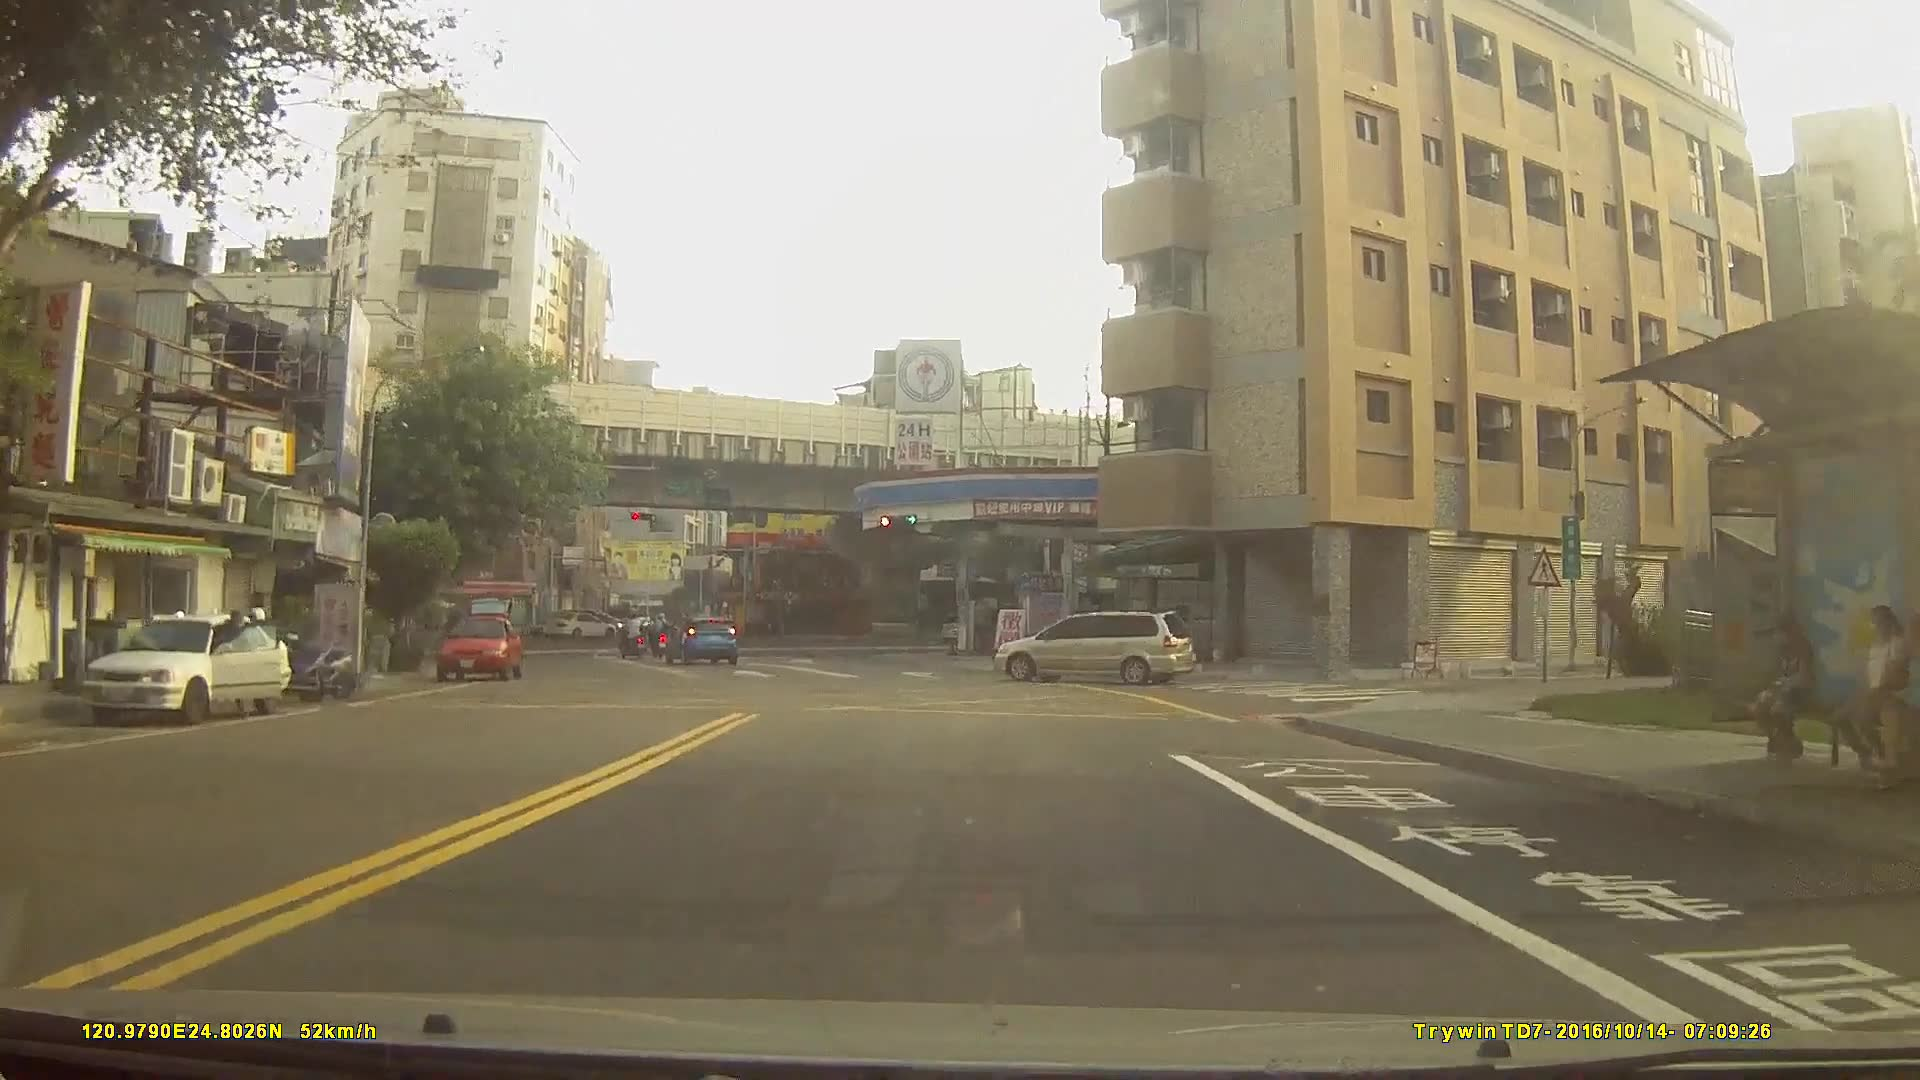pedestrian: (1749, 619, 1820, 776), (1861, 598, 1920, 784)
rider: (615, 612, 645, 664)
vehicle: (81, 613, 293, 728), (991, 608, 1197, 681), (435, 614, 526, 681), (660, 617, 738, 666), (543, 609, 616, 641), (527, 608, 595, 639)
